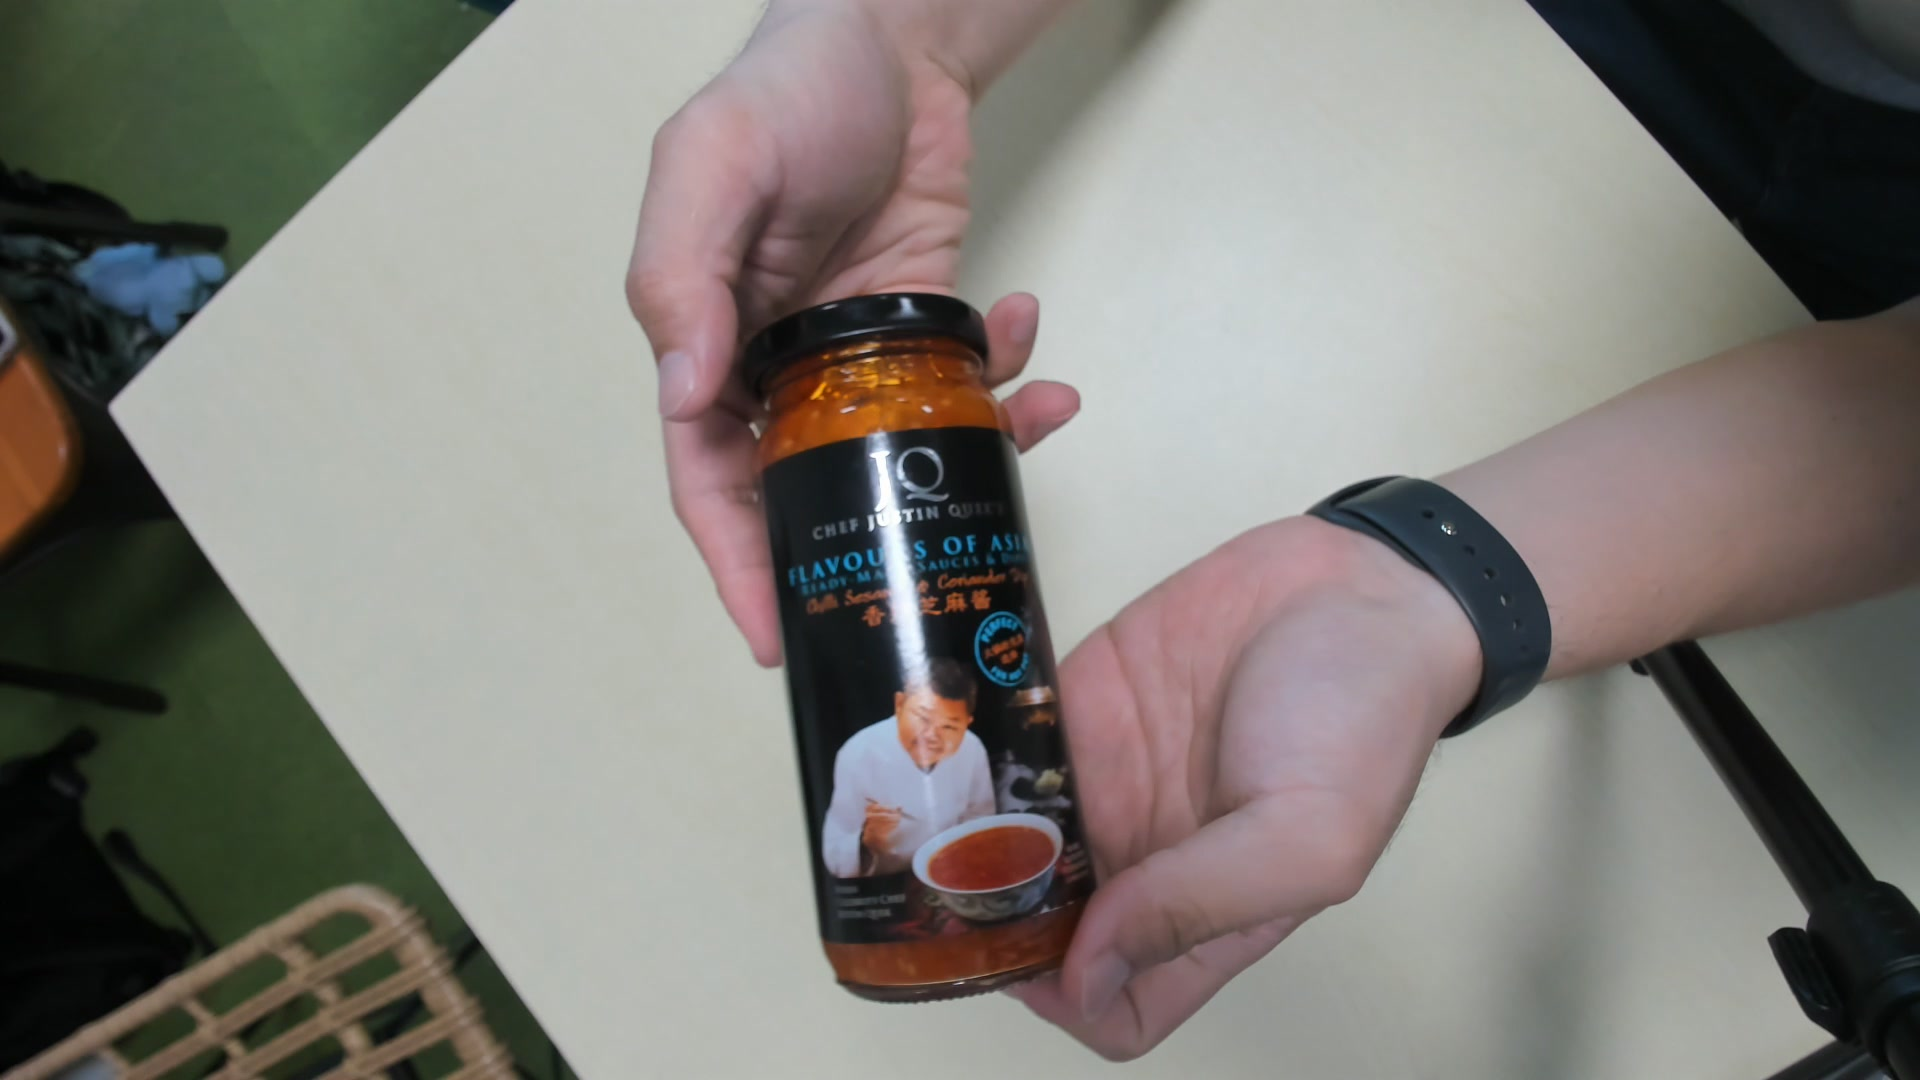OtherSauceDressing_300-399g_NonHalal_NonHealthy: (746, 294, 1100, 1010)
